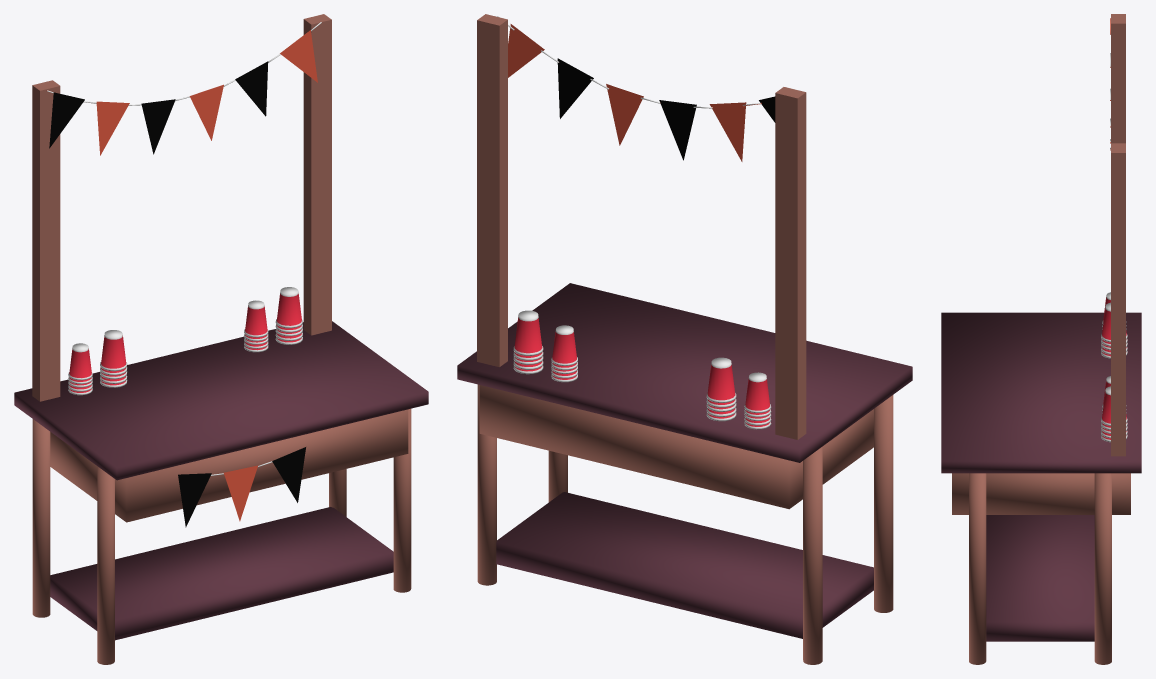
Rendered from hot_chocolate_stand.glb.
3 views of the same model, side by side, from view 1: azimuth 30°, elevation 25°; view 2: azimuth 150°, elevation 25°; view 3: azimuth 270°, elevation 25° (orthographic). The views are drawn at different scales.
Parts seen in each view (by area): view 1: HotChocolateStand; view 2: HotChocolateStand; view 3: HotChocolateStand.
Part boxes in pixels (x1,y1,x2,y2): HotChocolateStand: (14,14,428,664); HotChocolateStand: (457,14,912,664); HotChocolateStand: (941,14,1141,664).
Size of the model in its own units: 3.51 by 5.59 by 2.
